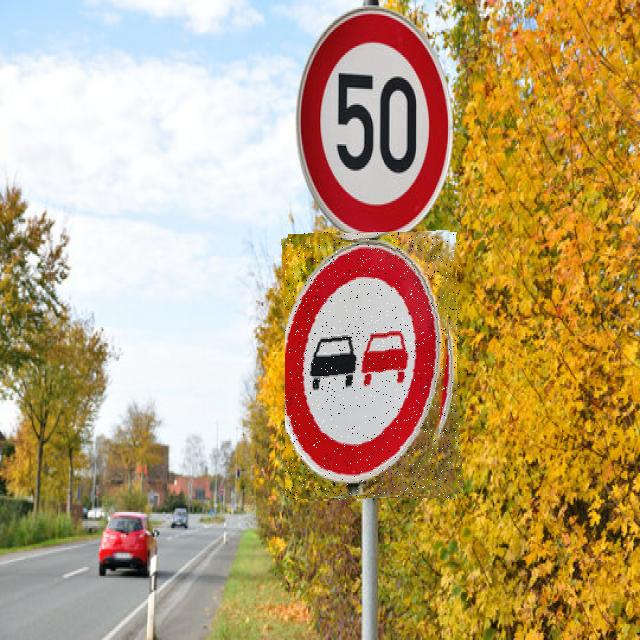no overtaking: (285, 232, 460, 500)
